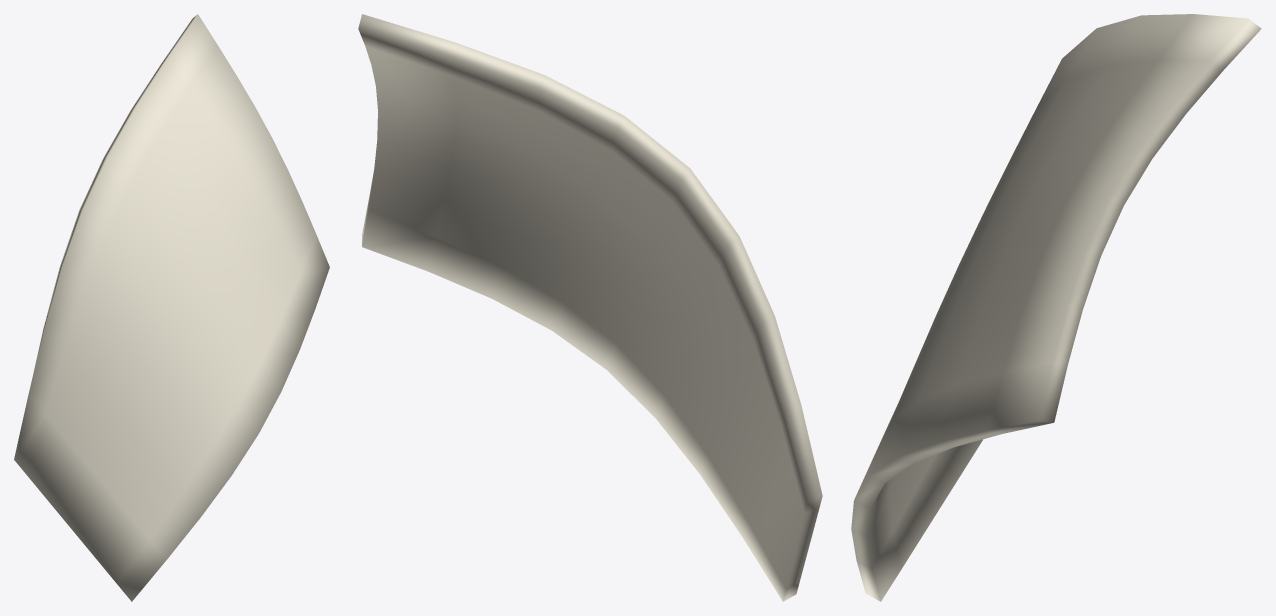
The picture shows the model from 3 angles, left to right: view 1: azimuth 30°, elevation 25°; view 2: azimuth 150°, elevation 25°; view 3: azimuth 270°, elevation 25°; orthographic projection. The views are drawn at different scales.
Visible parts, largest first — view 1: ZA_0218bfa16d2d3c5f; view 2: ZA_0218bfa16d2d3c5f; view 3: ZA_0218bfa16d2d3c5f.
Part boxes in pixels (bbox=[...]): ZA_0218bfa16d2d3c5f: bbox=[14, 14, 329, 601]; ZA_0218bfa16d2d3c5f: bbox=[358, 14, 822, 601]; ZA_0218bfa16d2d3c5f: bbox=[851, 14, 1261, 601].
Size of the model in its own units: 0.0161 by 0.0219 by 0.0112.
